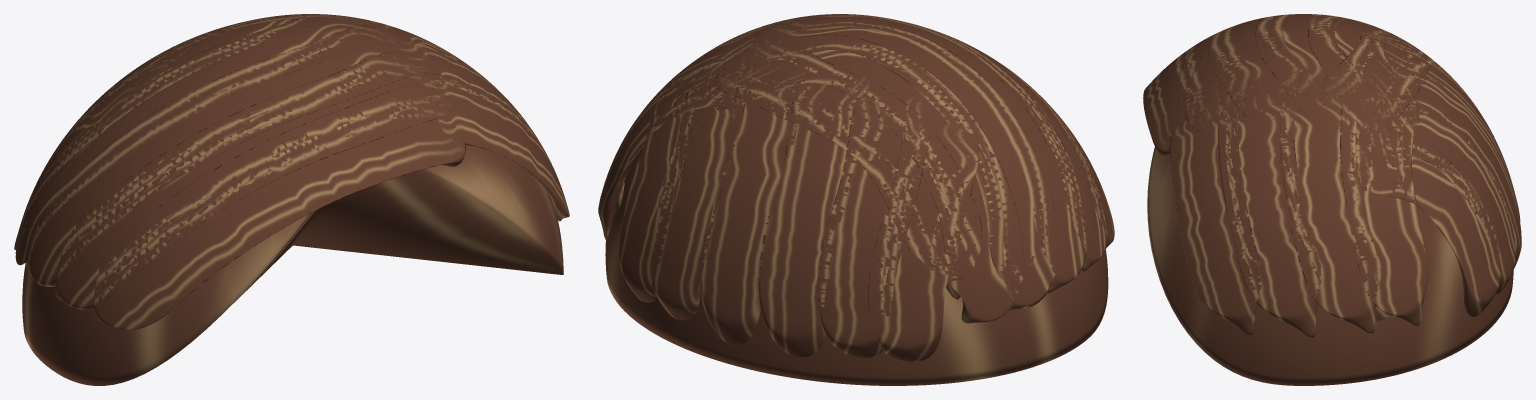
File: Highlights-3c07971bc987252-hair.glb
3 views of the same model, side by side, from view 1: azimuth 30°, elevation 25°; view 2: azimuth 150°, elevation 25°; view 3: azimuth 270°, elevation 25° (orthographic). The views are drawn at different scales.
Parts seen in each view (by area): view 1: 226 hair / Hair / sculpted 0.001, 226 hair / Hair / sculpted 1.002, 226 hair / Hair / sculpted 1.001, 226 hair / Hair / sculpted 2.001; view 2: 226 hair / Hair / sculpted 1.001, 226 hair / Hair / sculpted 0.001, 226 hair / Hair / sculpted 2.001, 226 hair / Hair / sculpted 1.002; view 3: 226 hair / Hair / sculpted 0.001, 226 hair / Hair / sculpted 1.001, 226 hair / Hair / sculpted 2.001, 226 hair / Hair / sculpted 1.002.
Boxes of the visible parts, x1,y1,x2,y2 form: 226 hair / Hair / sculpted 0.001: (15,14,569,329); 226 hair / Hair / sculpted 1.002: (22,145,563,385); 226 hair / Hair / sculpted 1.001: (14,14,547,309); 226 hair / Hair / sculpted 2.001: (29,18,490,286); 226 hair / Hair / sculpted 1.001: (615,14,1107,358); 226 hair / Hair / sculpted 0.001: (598,18,1114,362); 226 hair / Hair / sculpted 2.001: (609,14,1086,357); 226 hair / Hair / sculpted 1.002: (605,151,1108,385); 226 hair / Hair / sculpted 0.001: (1143,14,1521,335); 226 hair / Hair / sculpted 1.001: (1170,14,1515,337); 226 hair / Hair / sculpted 2.001: (1208,14,1520,333); 226 hair / Hair / sculpted 1.002: (1147,146,1513,385).
Size of the model in its own units: 0.96 by 0.5092 by 0.723.
4 materials, 4 textured.
